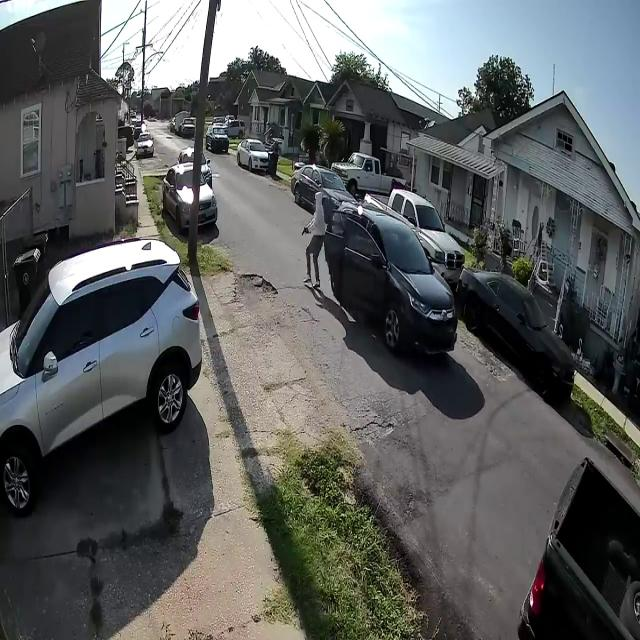penembakan: (300, 188, 328, 292)
